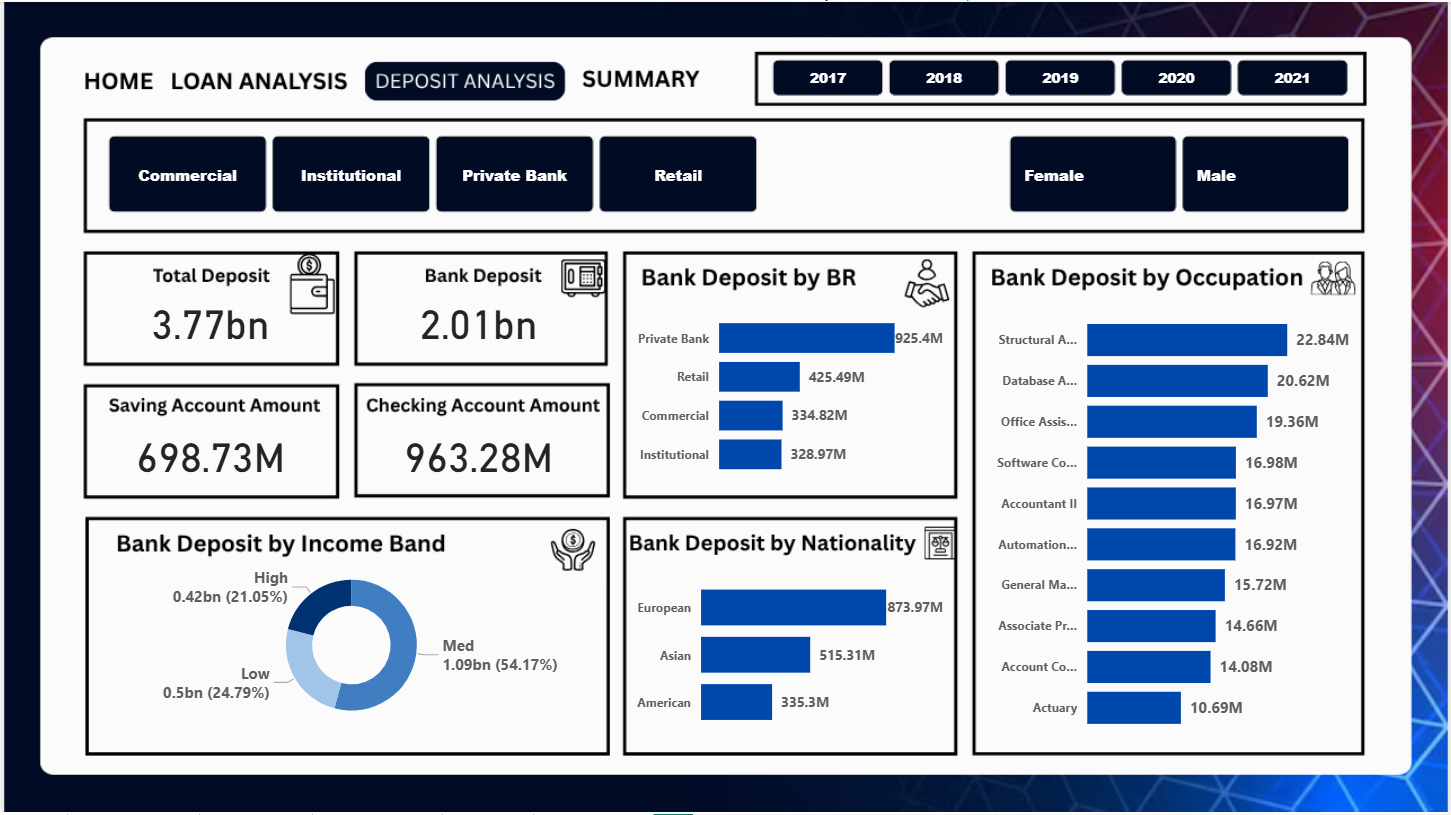

The page's visual inventory and layout, read from the dashboard file:
{"tool":"powerbi","page":{"name":"Deposit Analysis","canvas":[1280,720],"ordinal":3},"visuals":[{"type":"advancedSlicerVisual","fields":{"Values":["bank_db customer.Year of Joining"]},"box":[676.8,45.8,521.2,42.2],"z":0},{"type":"actionButton","box":[57.9,48.3,82,39.8],"z":1000},{"type":"actionButton","box":[139.9,48.3,167.7,39.8],"z":2000},{"type":"actionButton","box":[505.5,49.5,117,39.8],"z":3000},{"type":"card","fields":{"Values":["bank_db customer.Total Deposits"]},"box":[88.1,249.7,190.6,66.4],"z":4000},{"type":"card","fields":{"Values":["Sum(bank_db customer.Bank Deposits)"]},"box":[325.7,249.7,190.6,66.4],"z":5000},{"type":"card","fields":{"Values":["Sum(bank_db customer.Saving Accounts)"]},"box":[88.1,368,190.6,66.4],"z":6000},{"type":"card","fields":{"Values":["Sum(bank_db customer.Checking Accounts)"]},"box":[325.7,368,190.6,66.4],"z":7000},{"type":"donutChart","fields":{"Category":["bank_db customer.Income Band"],"Y":["Sum(bank_db customer.Bank Deposits)"]},"box":[98.9,491,417.4,158],"z":8000},{"type":"clusteredBarChart","fields":{"Category":["bank_db customer.BRId"],"Y":["Sum(bank_db customer.Bank Deposits)"]},"box":[555,258.2,282.3,176.1],"z":9000},{"type":"clusteredBarChart","fields":{"Category":["bank_db customer.Nationality"],"Y":["Sum(bank_db customer.Bank Deposits)"]},"box":[555,491,282.3,168.9],"z":10000},{"type":"clusteredBarChart","fields":{"Category":["bank_db customer.Occupation"],"Y":["Sum(bank_db customer.Bank Deposits)"]},"box":[864.5,258,333.4,402.1],"z":11000},{"type":"advancedSlicerVisual","fields":{"Values":["bank_db customer.BRId"]},"box":[88.1,113.4,588.7,78.4],"z":12000},{"type":"advancedSlicerVisual","fields":{"Values":["bank_db customer.GenderId"]},"box":[886.7,113.4,311.3,78.4],"z":13000}]}

Visuals, with their boxes in screenshot pixels (x1, y1, x2, y2), scaled from the page's 1280x720 canvas onto the 1451x815 screenshot:
advancedSlicerVisual - bank_db customer.Year of Joining: l=767, t=52, r=1358, b=100
actionButton: l=66, t=55, r=159, b=100
actionButton: l=159, t=55, r=349, b=100
actionButton: l=573, t=56, r=706, b=101
card - bank_db customer.Total Deposits: l=100, t=283, r=316, b=358
card - Sum(bank_db customer.Bank Deposits): l=369, t=283, r=585, b=358
card - Sum(bank_db customer.Saving Accounts): l=100, t=417, r=316, b=492
card - Sum(bank_db customer.Checking Accounts): l=369, t=417, r=585, b=492
donutChart - bank_db customer.Income Band x Sum(bank_db customer.Bank Deposits): l=112, t=556, r=585, b=735
clusteredBarChart - bank_db customer.BRId x Sum(bank_db customer.Bank Deposits): l=629, t=292, r=949, b=492
clusteredBarChart - bank_db customer.Nationality x Sum(bank_db customer.Bank Deposits): l=629, t=556, r=949, b=747
clusteredBarChart - bank_db customer.Occupation x Sum(bank_db customer.Bank Deposits): l=980, t=292, r=1358, b=747
advancedSlicerVisual - bank_db customer.BRId: l=100, t=128, r=767, b=217
advancedSlicerVisual - bank_db customer.GenderId: l=1005, t=128, r=1358, b=217
